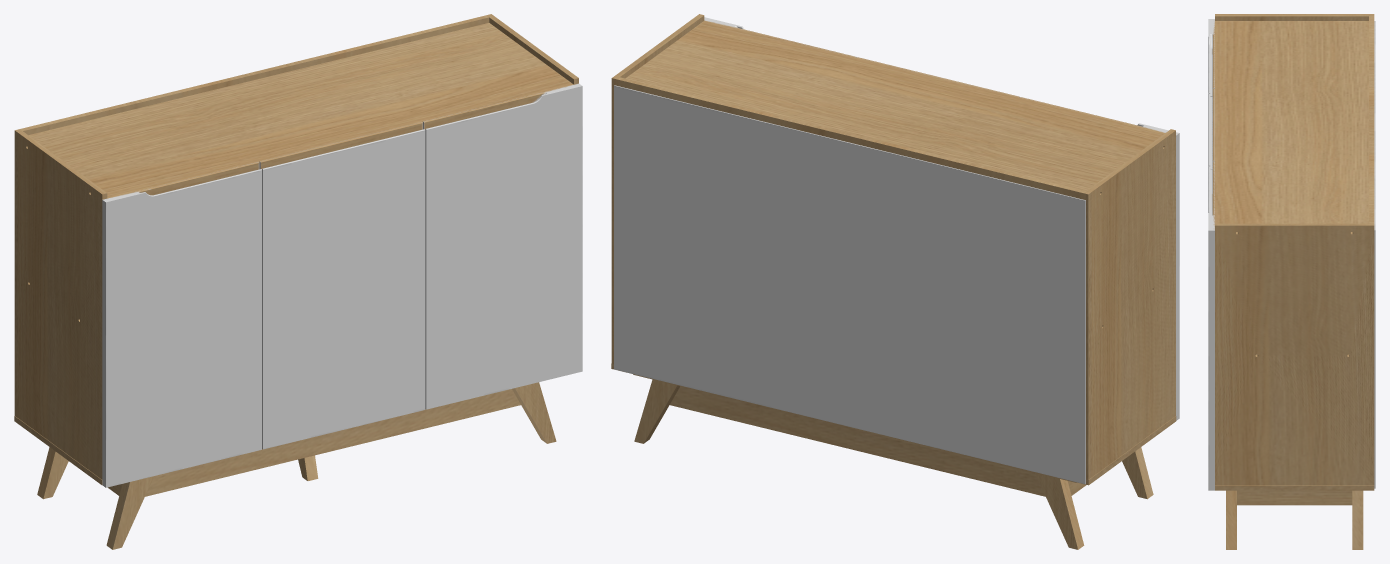
3 renders of one model, left to right at view 1: azimuth 30°, elevation 25°; view 2: azimuth 150°, elevation 25°; view 3: azimuth 270°, elevation 25°, orthographic. The views are drawn at different scales.
Visible parts, largest first — view 1: A405330-PUERTASXCE, A405330-PUERTASXIZ, A405330-PUERTASXDE, A405330-TAPASXXXTA, Simetruc801405330-COSTADOSCO, A405330-ZOCALOSXFR, A405330-FAJASXXXFR, Pata 191, Pata 200, A405330-COSTADOSCO, Pata 194; view 2: A405330-FONDOSXXMU002, A405330-FONDOSXXMU001, A405330-FONDOSXXMU, A405330-TAPASXXXTA, Simetruc801405330-COSTADOSCO, A405330-ZOCALOSXFR001, A405330-FAJASXXXFR, A405330-COSTADOSCO, Pata 194, A405330-PUERTASXIZ, Pata 197, Pata 191 (+1 smaller); view 3: A405330-COSTADOSCO, A405330-TAPASXXXTA, A405330-PUERTASXDE, A405330-ZOCALOSXLA001, A405330-FAJASXXXFR, Simetruc801405330-COSTADOSCO, A405330-PISOSXXXPI, Pata 197, Pata 200, A405330-FONDOSXXMU, A405330-PUERTASXIZ, A405330-PUERTASXCE.
Boxes of the visible parts, x1,y1,x2,y2 form: A405330-PUERTASXCE: (259,122,425,449); A405330-PUERTASXIZ: (102,161,261,487); A405330-PUERTASXDE: (423,83,582,409); A405330-TAPASXXXTA: (28,23,573,198); Simetruc801405330-COSTADOSCO: (14,129,107,479); A405330-ZOCALOSXFR: (145,389,520,496); A405330-FAJASXXXFR: (20,15,489,135); Pata 191: (106,476,153,549); Pata 200: (512,382,556,443); A405330-COSTADOSCO: (486,14,578,84); Pata 194: (37,447,68,499); A405330-FONDOSXXMU002: (928,162,1085,484); A405330-FONDOSXXMU001: (771,123,928,445); A405330-FONDOSXXMU: (614,85,771,407); A405330-TAPASXXXTA: (625,20,1164,190); Simetruc801405330-COSTADOSCO: (1083,129,1175,479); A405330-ZOCALOSXFR001: (670,386,1045,496); A405330-FAJASXXXFR: (617,77,1085,199); A405330-COSTADOSCO: (611,14,704,363); Pata 194: (1035,473,1084,549); A405330-PUERTASXIZ: (1020,97,1179,420); Pata 197: (634,379,679,443); Pata 191: (1122,447,1153,499); A405330-COSTADOSCO: (1215,223,1374,485); A405330-TAPASXXXTA: (1215,21,1368,223); A405330-PUERTASXDE: (1208,161,1214,490); A405330-ZOCALOSXLA001: (1237,490,1352,505); A405330-FAJASXXXFR: (1369,16,1374,223); Simetruc801405330-COSTADOSCO: (1215,14,1374,20); A405330-PISOSXXXPI: (1215,485,1374,490); Pata 197: (1352,490,1363,549); Pata 200: (1226,490,1236,549); A405330-FONDOSXXMU: (1374,160,1375,488); A405330-PUERTASXIZ: (1208,19,1214,96); A405330-PUERTASXCE: (1208,88,1214,169).
Size of the model in its own units: 1.4 by 1.02 by 0.466.
1 material, 1 textured.
